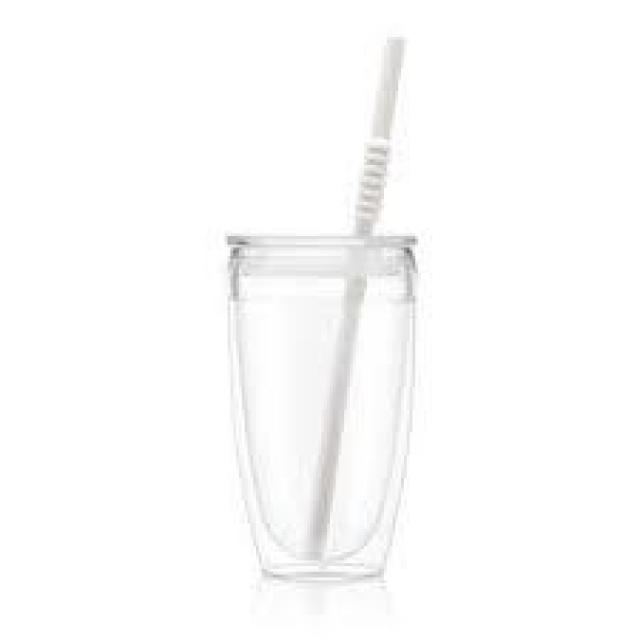bottle: (208, 220, 435, 590)
